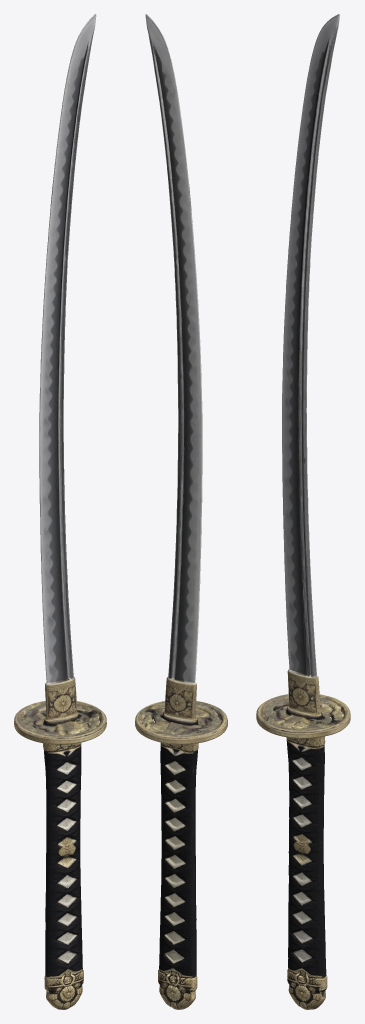
Rendered from weapon_japan_tachi.glb.
3 renders of one model, left to right at view 1: azimuth 30°, elevation 25°; view 2: azimuth 150°, elevation 25°; view 3: azimuth 330°, elevation 25°, orthographic.
Size of the model in its own units: 0.0924 by 1.08 by 0.0919.
Materials: 1 (1 with a texture image).
